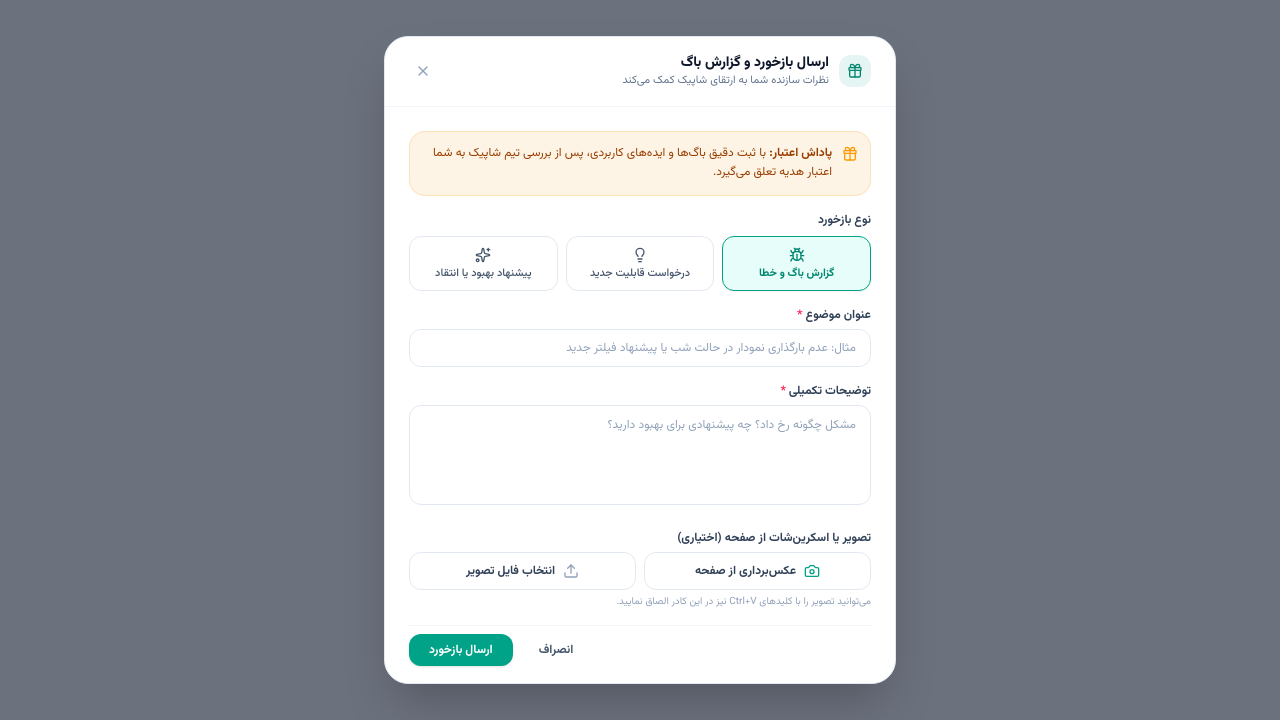
[component] FeedbackModal › shows validation error when title or description is missing
What coordinates should you click on to do the following:
click the button "ارسال بازخورد"
I would click on:
 (461, 650)
Its box is 409,634 -> 513,666.
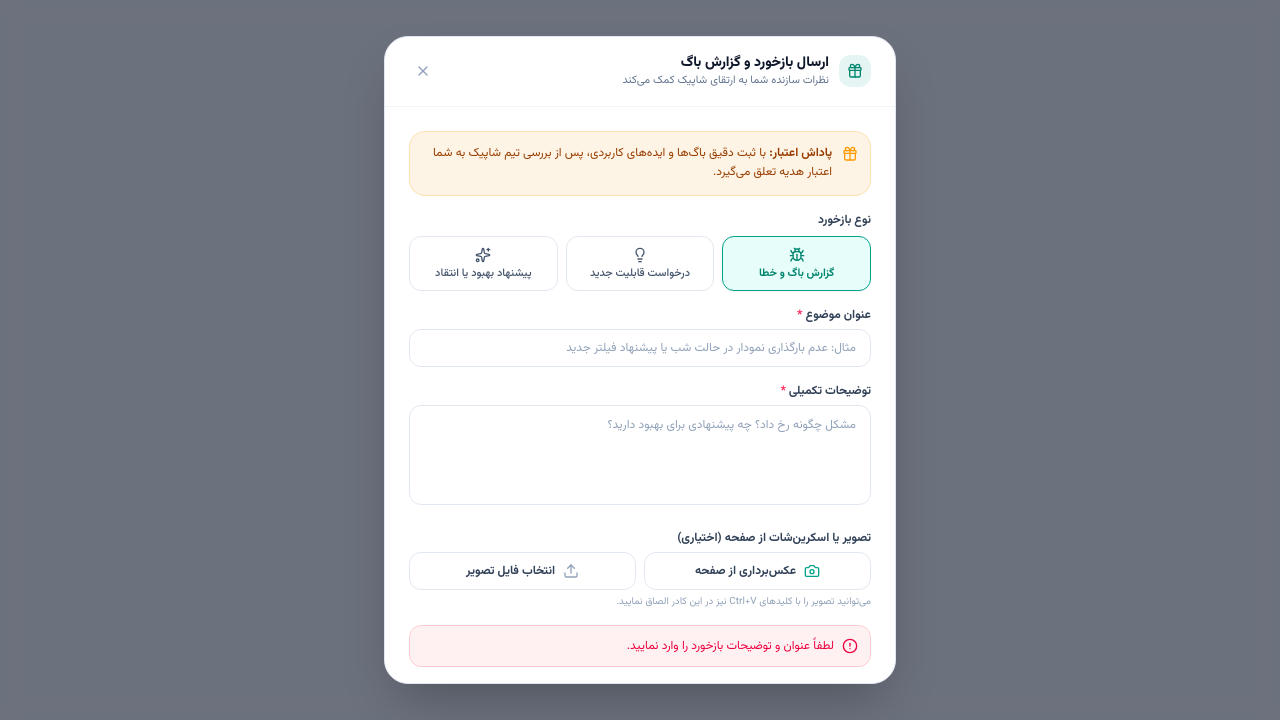
Expected: the text "لطفاً عنوان و توضیحات بازخورد را وارد نمایید." is shown, 627,638 -> 834,654
